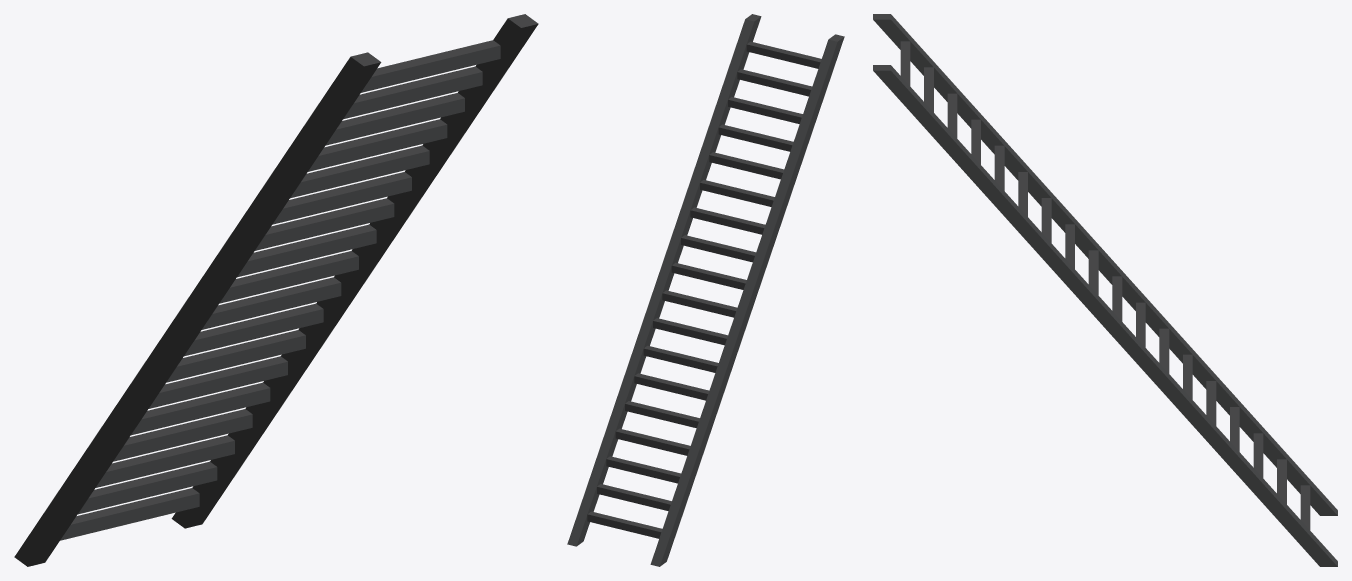
Rendered from SM_Props_FireEscape_Steps_02.fbx.
3 views of the same model, side by side, from view 1: azimuth 30°, elevation 25°; view 2: azimuth 150°, elevation 25°; view 3: azimuth 270°, elevation 25° (orthographic). The views are drawn at different scales.
Parts seen in each view (by area): view 1: SM_Props_FireEscape_Steps_02; view 2: SM_Props_FireEscape_Steps_02; view 3: SM_Props_FireEscape_Steps_02.
Part boxes in pixels (x1=…): SM_Props_FireEscape_Steps_02: x1=14, y1=14, x2=538, y2=566; SM_Props_FireEscape_Steps_02: x1=567, y1=14, x2=844, y2=566; SM_Props_FireEscape_Steps_02: x1=873, y1=14, x2=1337, y2=566.
Size of the model in its own units: 60 by 245 by 208.
